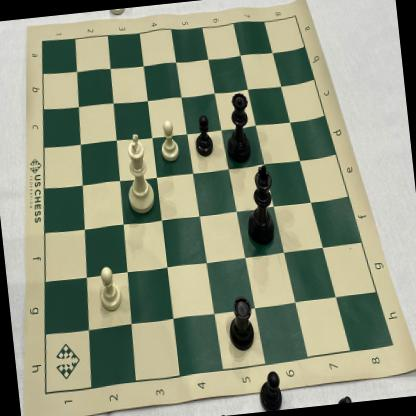king: (116, 129, 158, 219), (238, 162, 280, 249)
pawn: (92, 262, 127, 314), (188, 110, 216, 158), (154, 118, 182, 164)
queen: (219, 88, 256, 170)
rook: (224, 290, 258, 354)
